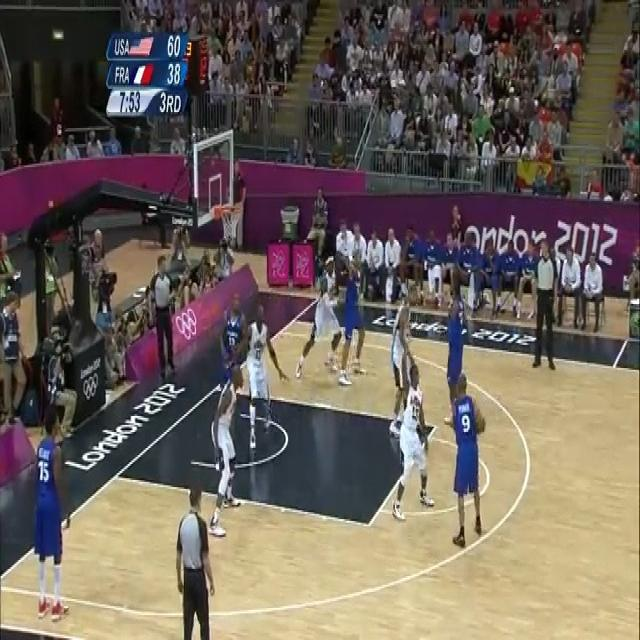basketball: (475, 407, 488, 436)
hoop: (220, 205, 242, 242)
